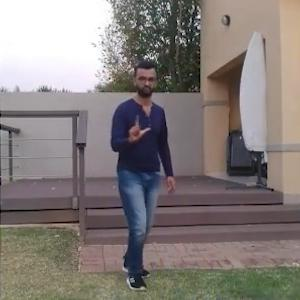land_hand: (127, 108, 160, 147)
